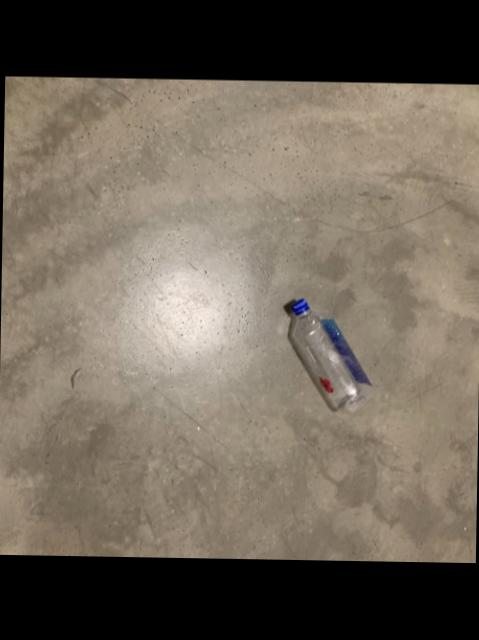plastic: (281, 301, 368, 412)
